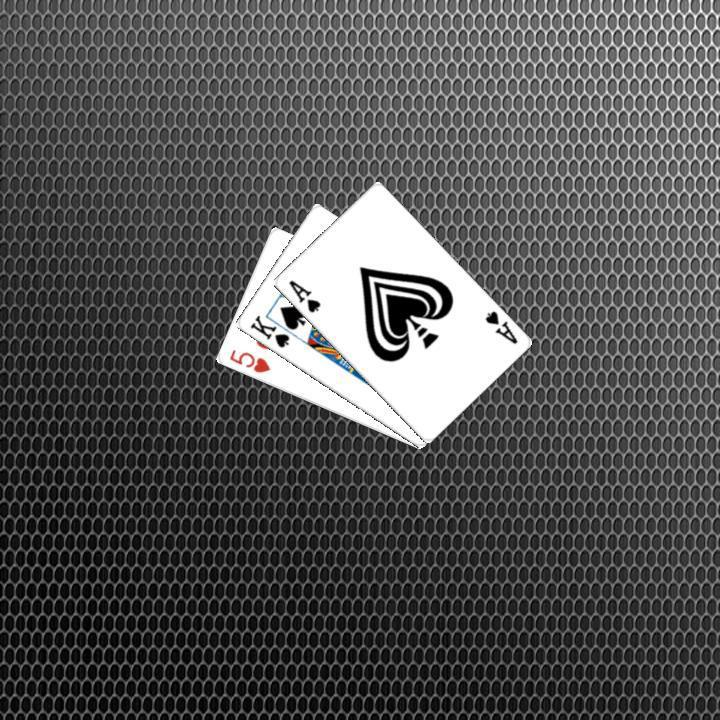5: (224, 345, 272, 375)
A: (480, 306, 519, 346), (284, 276, 322, 315)
K: (245, 311, 291, 350)
